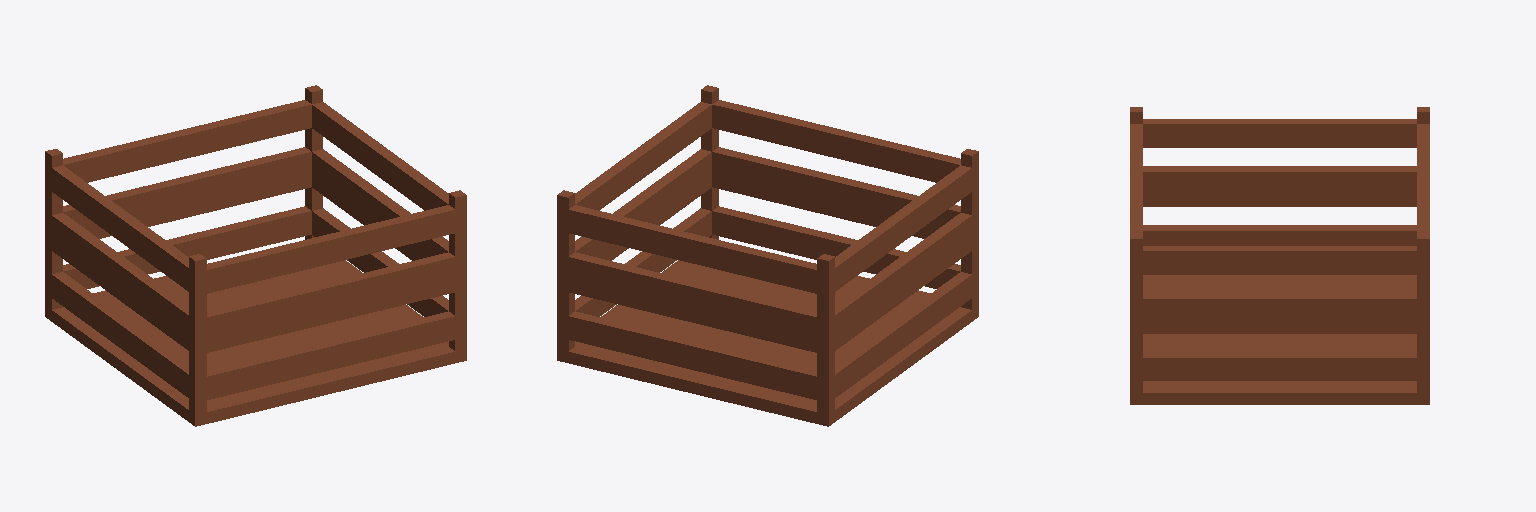
The picture shows the model from 3 angles: view 1: azimuth 30°, elevation 25°; view 2: azimuth 150°, elevation 25°; view 3: azimuth 270°, elevation 25°; orthographic projection.
Visible parts, largest first — view 1: object 1; view 2: object 1; view 3: object 1.
Boxes of the visible parts, box(x1,y1,x2,y2) form: object 1: box(45, 85, 466, 426); object 1: box(557, 85, 978, 426); object 1: box(1130, 107, 1429, 404).
Bounding box in the file's own units: 2.4 × 1.4 × 2.3.
1 materials, 1 textured.